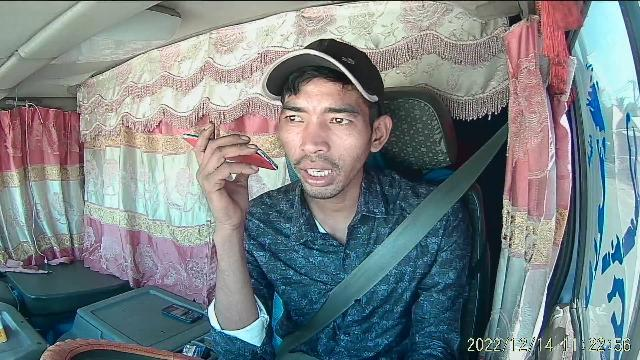PhoneUse: (182, 132, 280, 174), (160, 300, 204, 324)
SafeDriving: (323, 109, 357, 130), (281, 108, 310, 128)
Seatbelt: (290, 150, 498, 350)
